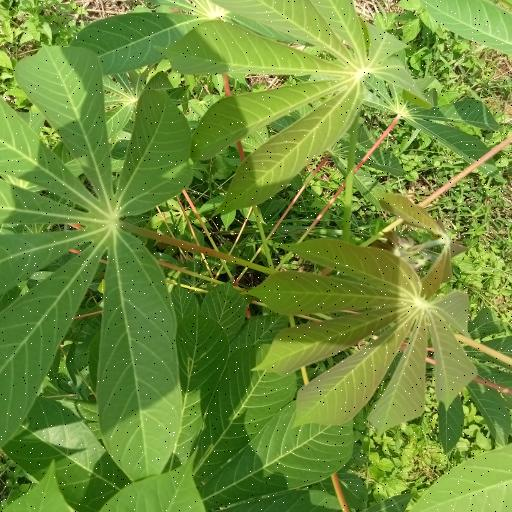Cassava_Healthy: (0, 45, 191, 466), (256, 198, 474, 428), (175, 2, 417, 199), (175, 290, 351, 512)
